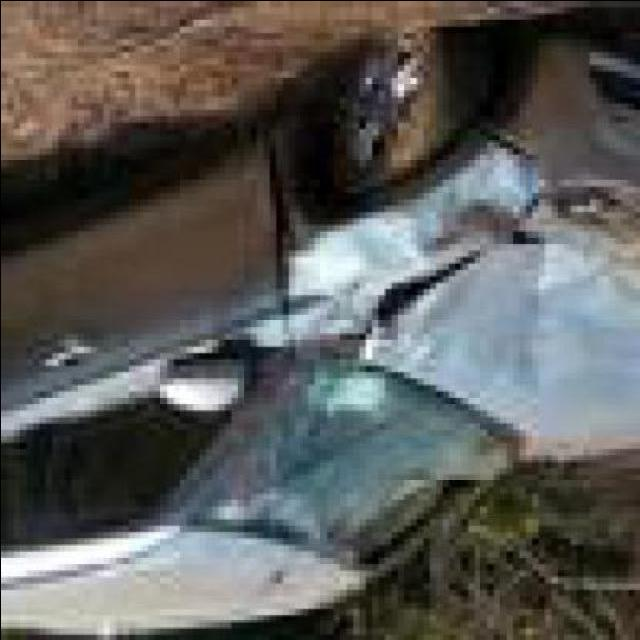Front-Windscreen-Damage: (192, 365, 506, 589)
bonnet-dent: (371, 256, 640, 455)
fender-dent: (282, 101, 506, 338)
